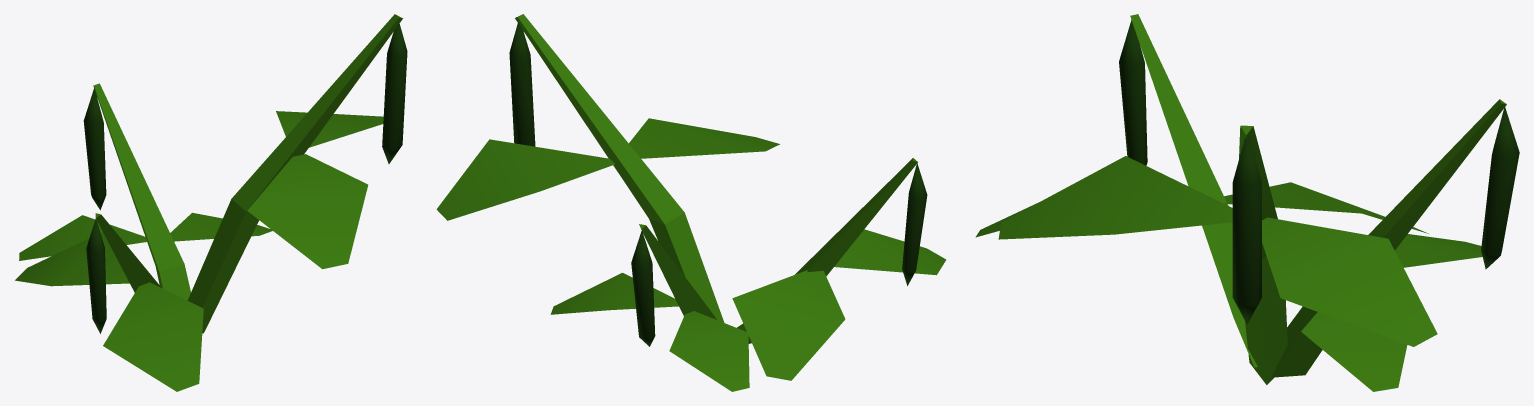
File: bean state 3.fbx
3 renders of one model, left to right at view 1: azimuth 30°, elevation 25°; view 2: azimuth 150°, elevation 25°; view 3: azimuth 270°, elevation 25°, orthographic. The views are drawn at different scales.
Visible parts, largest first — view 1: beans state 1.002; view 2: beans state 1.002; view 3: beans state 1.002.
Part boxes in pixels (x1,y1,x2,y2): beans state 1.002: (15,14,407,391); beans state 1.002: (436,14,946,391); beans state 1.002: (975,14,1519,391).
Size of the model in its own units: 58.9 by 42.49 by 53.81.
